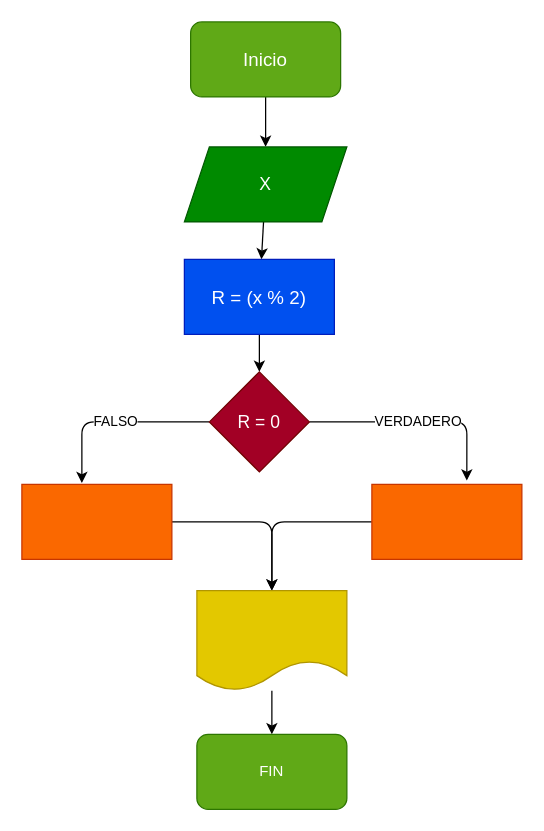
This 544x831 diagram has some shape labels left out. Here are the shapes that lost their labels. From the top down, the centre of each, then its label:
At point (96, 521): "RTA = Impar".
At point (446, 521): "RTA = Par".
At point (271, 640): "RTA".
